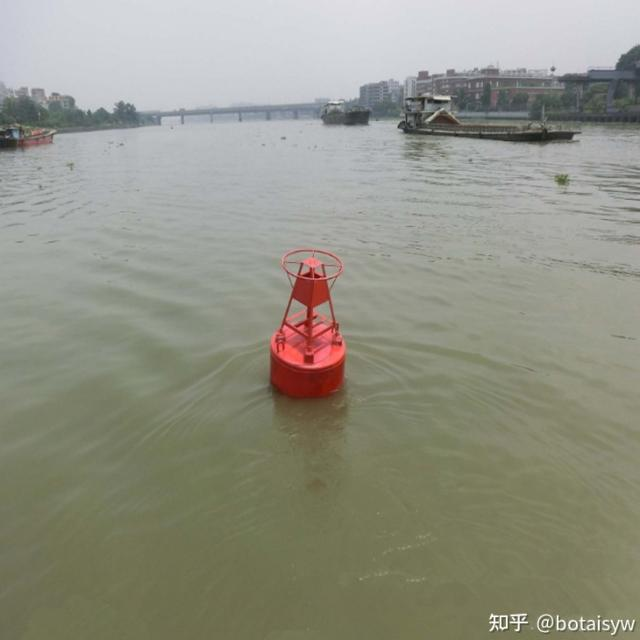buoy: (262, 248, 356, 396)
